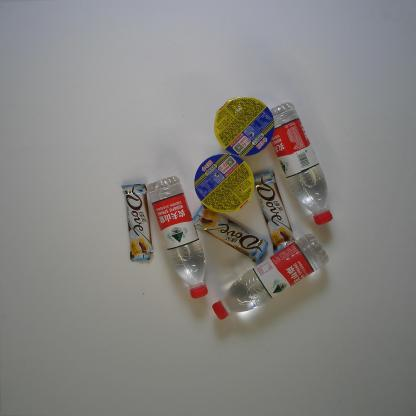Chocolate: (190, 199, 270, 264), (253, 169, 296, 255), (121, 183, 155, 262)
Drink: (211, 233, 331, 322), (265, 100, 335, 228), (145, 174, 210, 300)
Instant Noodles: (212, 94, 276, 156), (193, 152, 255, 215)
